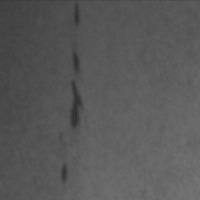inclusion: (65, 76, 87, 131), (69, 48, 84, 78), (57, 158, 72, 187), (69, 1, 83, 29)
